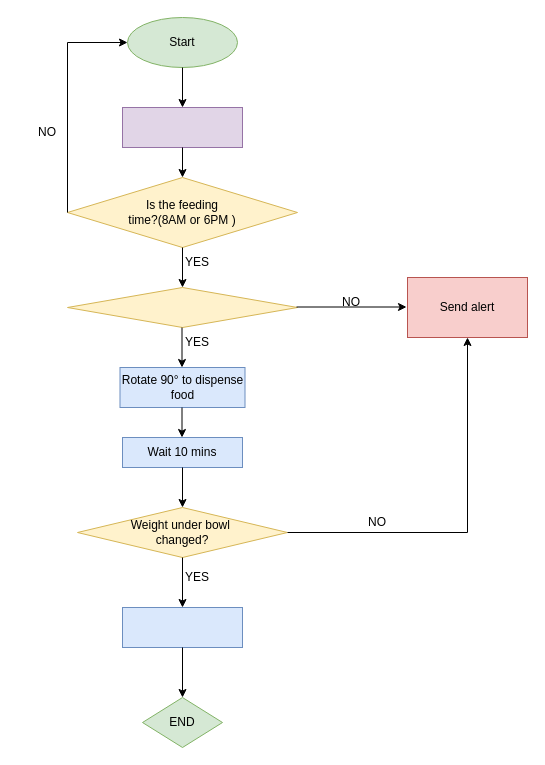
This 545x765 diagram has some shape labels left out. The shapes that lost their labels are listed below. From the top down, each one's centre as x and y in pixels, then its label:
At pixel 182 127: "Real-time clock".
At pixel 182 307: "Food level＞200g?".
At pixel 182 627: "Feeding success".
